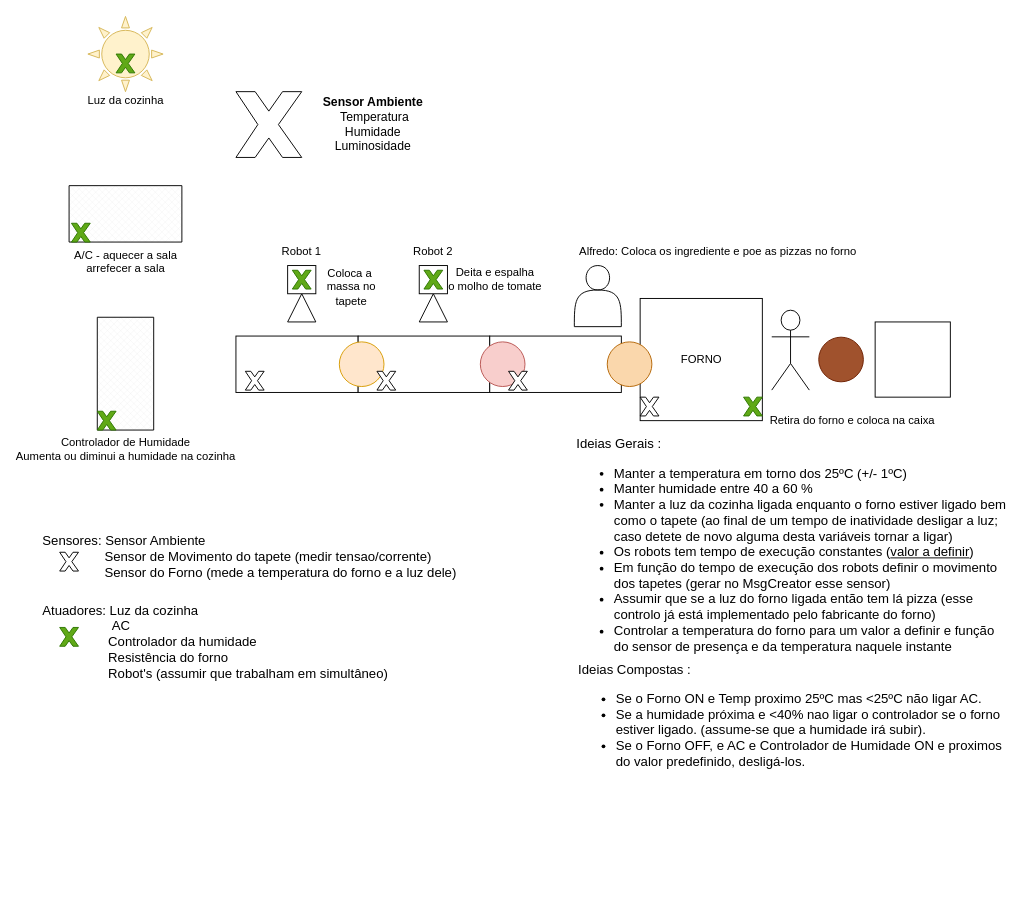
The diagram is 1028 pixels wide and 898 high, and some of its shapes have lost their labels. Here are the shapes that lost their labels. From the top down, the centre of each, then its label:
At (x=790, y=349): "Jeremias".
At (x=912, y=359): "Caixa da Pizza".
